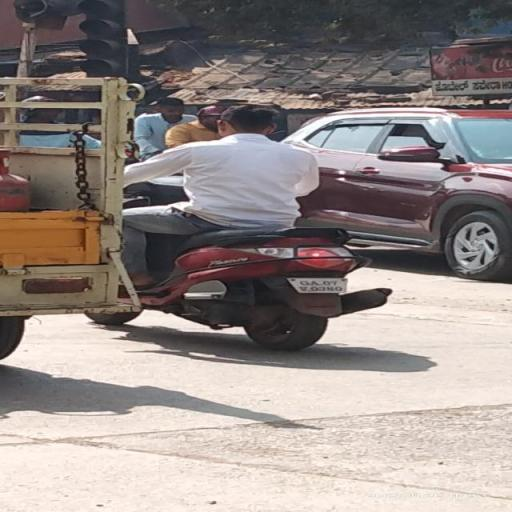bike: (118, 102, 398, 352)
numberplate: (291, 276, 348, 295)
withouthelmet: (224, 104, 278, 134)
